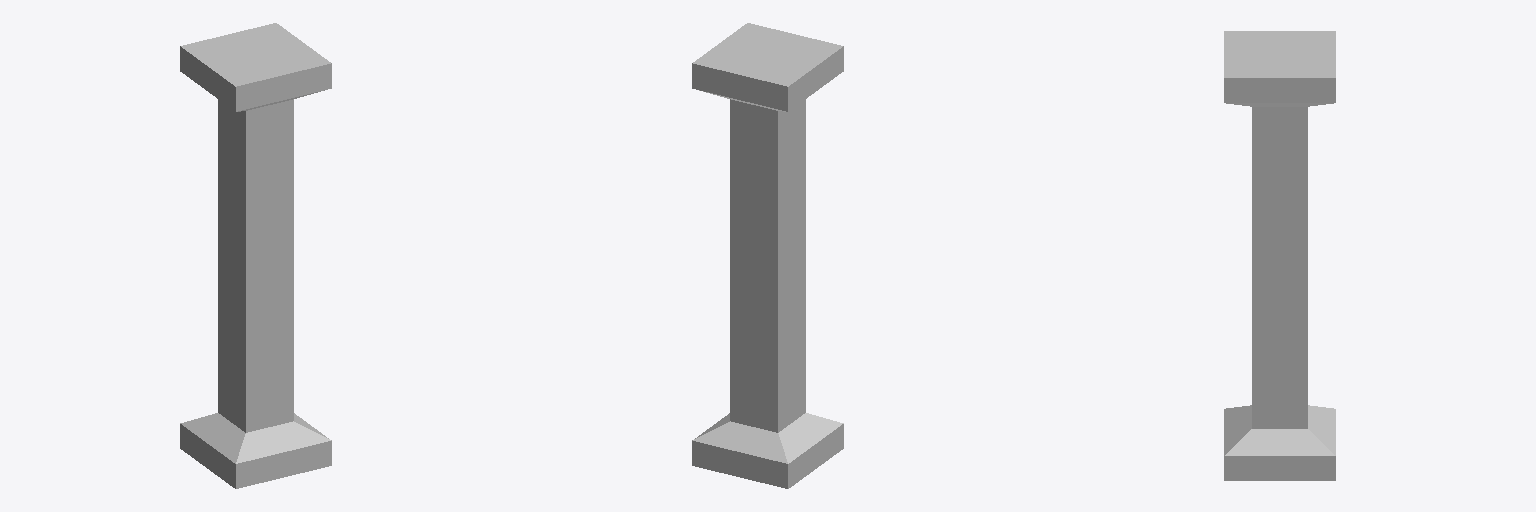
File: Pillar.obj
The picture shows the model from 3 angles: view 1: azimuth 30°, elevation 25°; view 2: azimuth 150°, elevation 25°; view 3: azimuth 270°, elevation 25°; orthographic projection.
Visible parts, largest first — view 1: Pillar_Cube.001; view 2: Pillar_Cube.001; view 3: Pillar_Cube.001.
Part boxes in pixels (x1,y1,x2,y2): Pillar_Cube.001: (180,23,331,488); Pillar_Cube.001: (692,23,843,488); Pillar_Cube.001: (1224,31,1335,480).
Bounding box in the file's own units: 2 × 8 × 2.